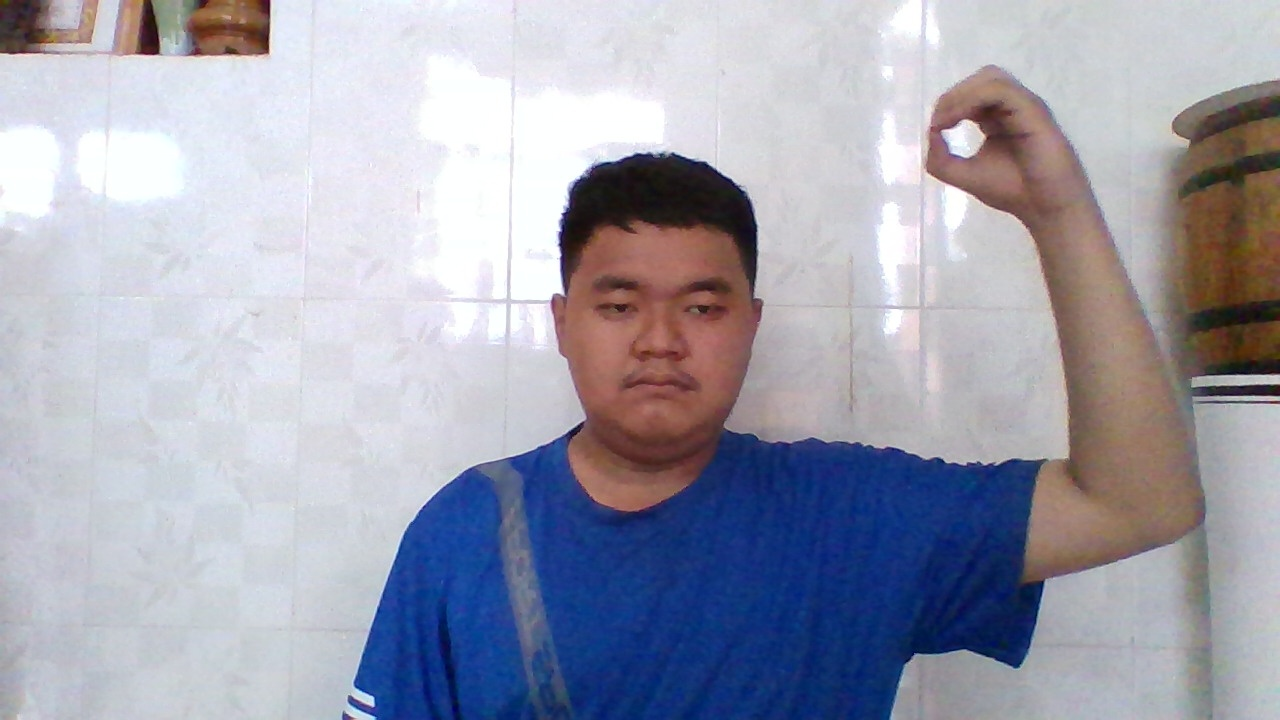O: (915, 58, 1059, 224)
